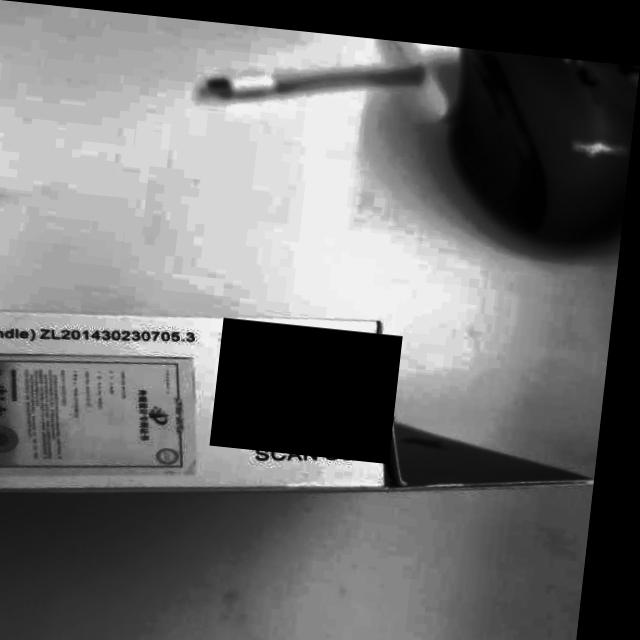qr_code: (219, 313, 409, 455)
